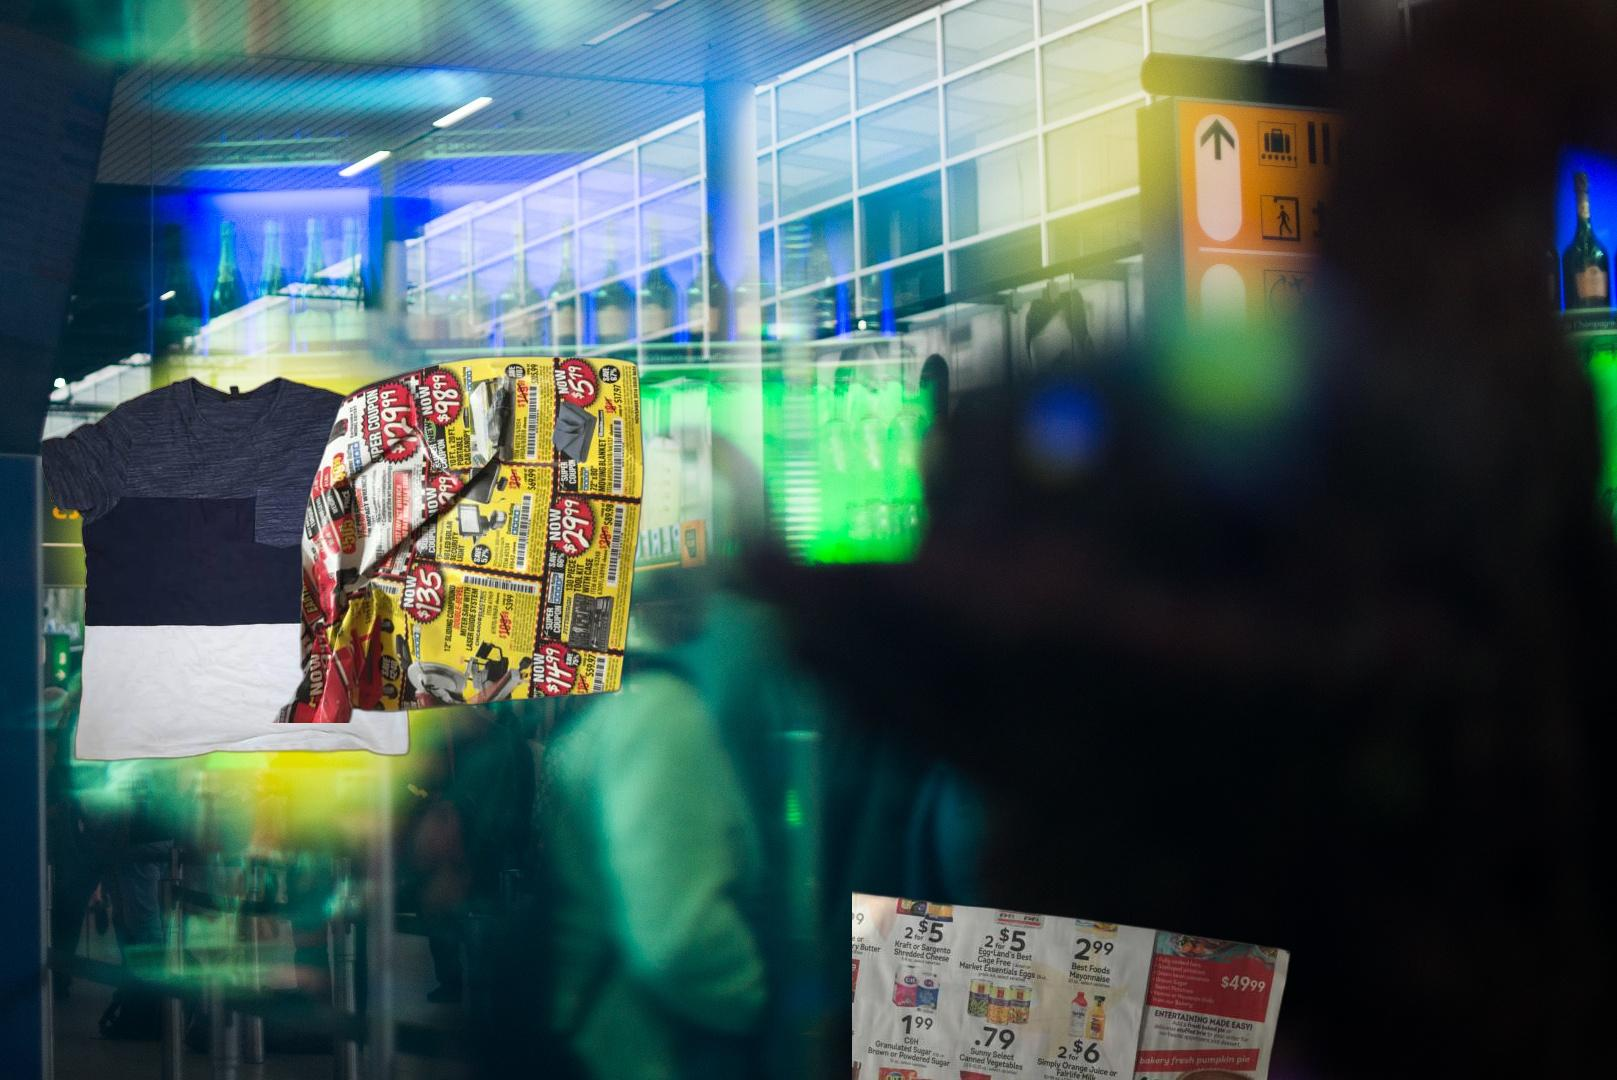clothes: (42, 371, 425, 765)
paper: (269, 352, 648, 723), (852, 887, 1295, 1080)
